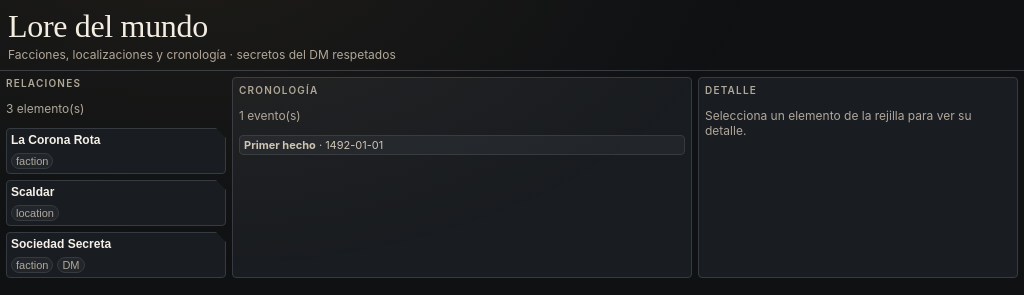
Lore del mundo (PMB-7.3) › muestra las relaciones del nodo seleccionado
The width and height of the screenshot is (1024, 295).
Click the button "La Corona Rota faction" at (116, 151), box x1=6 y1=128 x2=226 y2=174
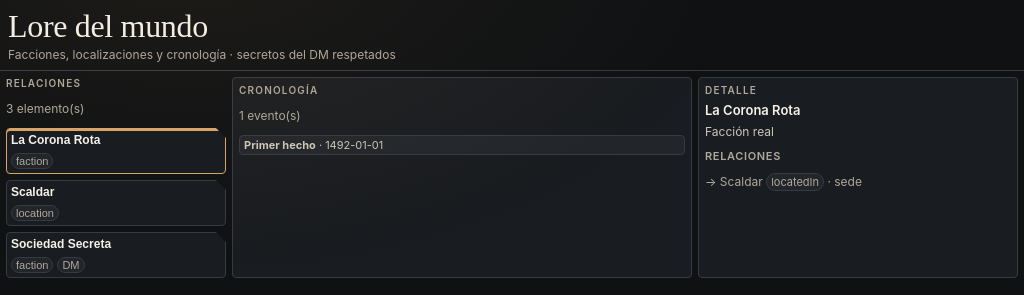
Expected: the text "Scaldar" is shown, x1=11 y1=185 x2=54 y2=199
Now the text "locatedIn" is shown, box x1=766 y1=173 x2=824 y2=191
